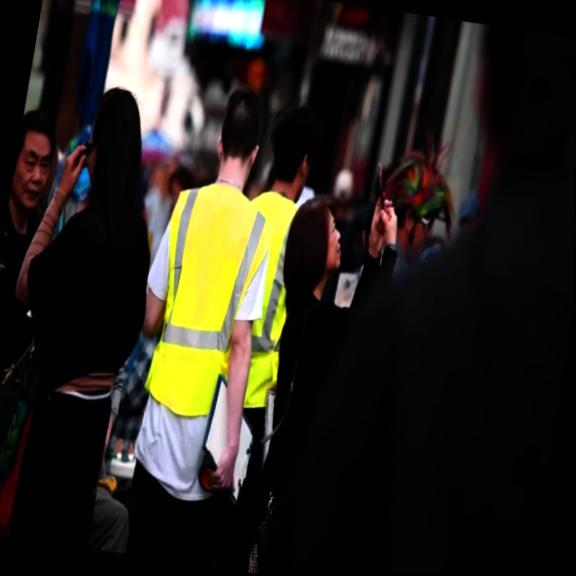safety_vest: (138, 173, 274, 423), (213, 192, 310, 414)
